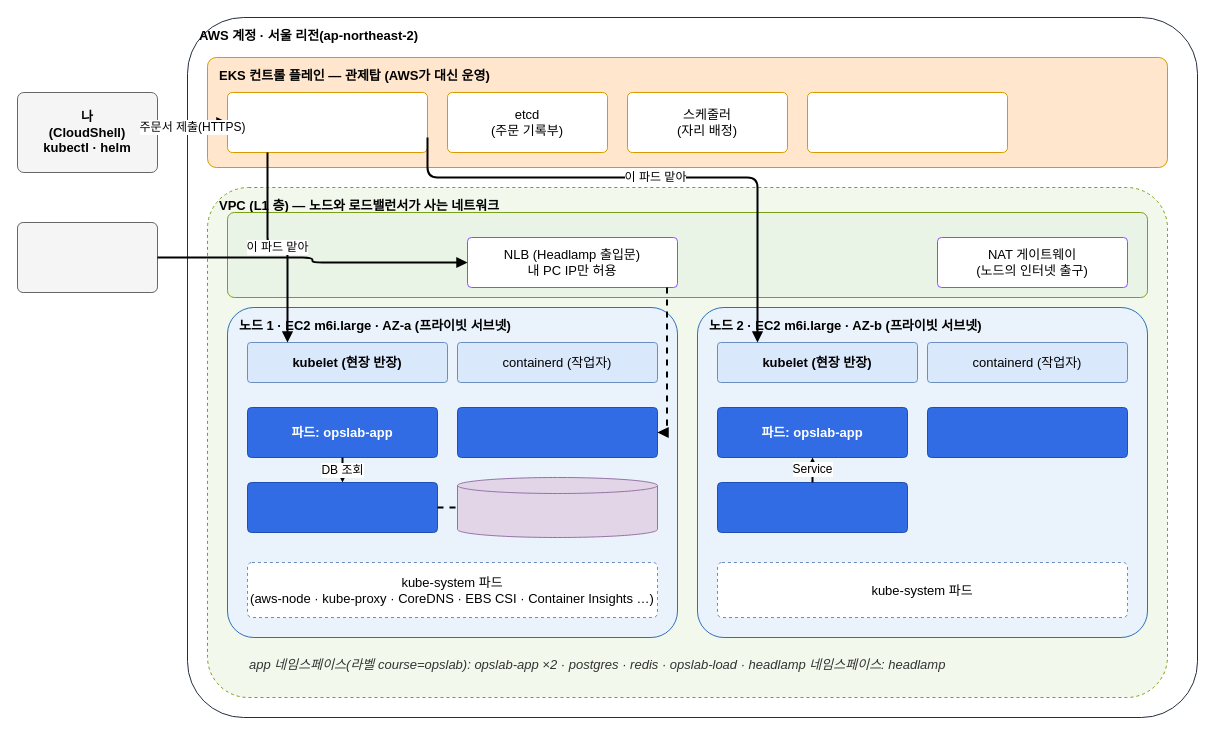
This 1215x735 diagram has some shape labels left out. The box of each missing label's shape, as (x1, y1, x2, y2) in pixels:
API 서버 (주문 접수 창구): (226, 92, 428, 152)
EBS gp3 볼륨 (PostgreSQL 디스크): (456, 476, 658, 538)
내 PC 브라우저 Headlamp 화면 (토큰 로그인): (16, 222, 158, 292)
컨트롤러 매니저 (원하는 상태 맞추기): (806, 92, 1008, 152)
파드: headlamp: (456, 406, 658, 458)
파드: opslab-load (초당 10건 부하): (716, 482, 908, 532)
파드: postgres-0: (246, 482, 438, 532)
파드: redis: (926, 406, 1128, 458)
퍼블릭 서브넷: (226, 212, 1148, 298)
